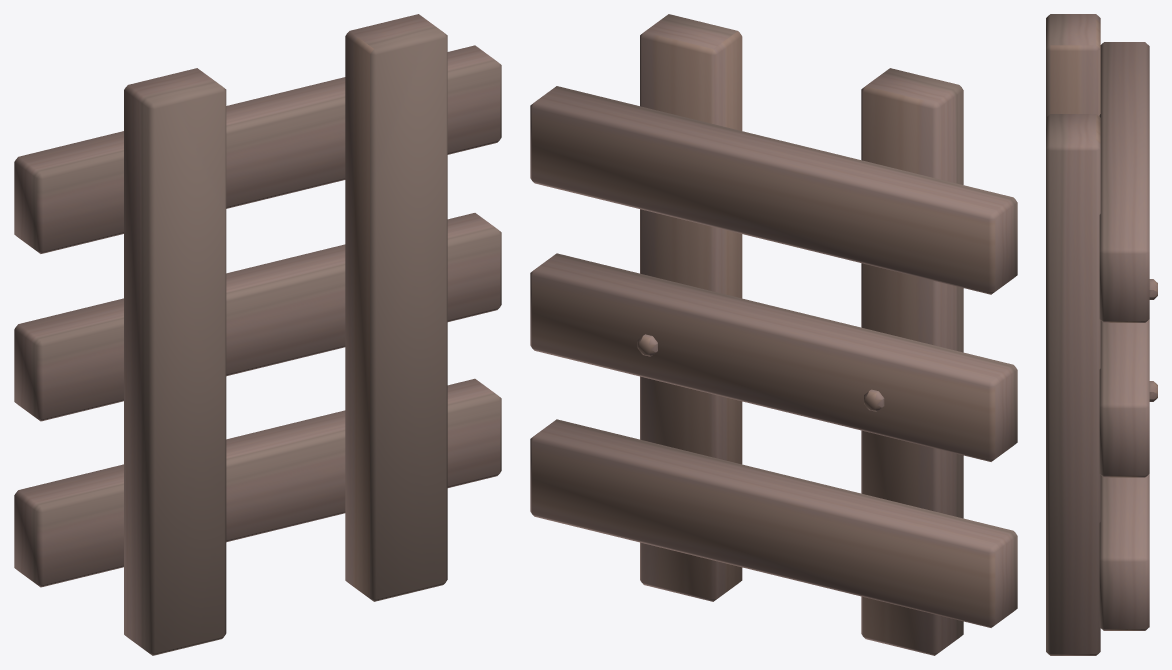
The model's file is Florist_Wallmount_01.fbx.
3 renders of one model, left to right at view 1: azimuth 30°, elevation 25°; view 2: azimuth 150°, elevation 25°; view 3: azimuth 270°, elevation 25°, orthographic. The views are drawn at different scales.
Parts seen in each view (by area): view 1: Florist_Wallmount_01; view 2: Florist_Wallmount_01; view 3: Florist_Wallmount_01.
Part boxes in pixels (<box>): Florist_Wallmount_01: <box>14,14,501,655</box>; Florist_Wallmount_01: <box>530,14,1017,655</box>; Florist_Wallmount_01: <box>1046,14,1157,655</box>.
Size of the model in its own units: 117 by 133 by 26.46.
